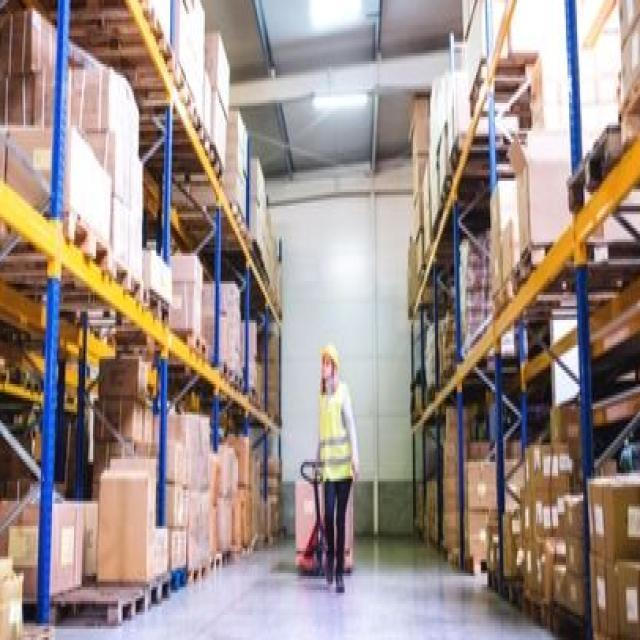hard_hat: (319, 340, 339, 373)
shoes: (323, 548, 347, 594)
vest: (315, 378, 355, 482)
